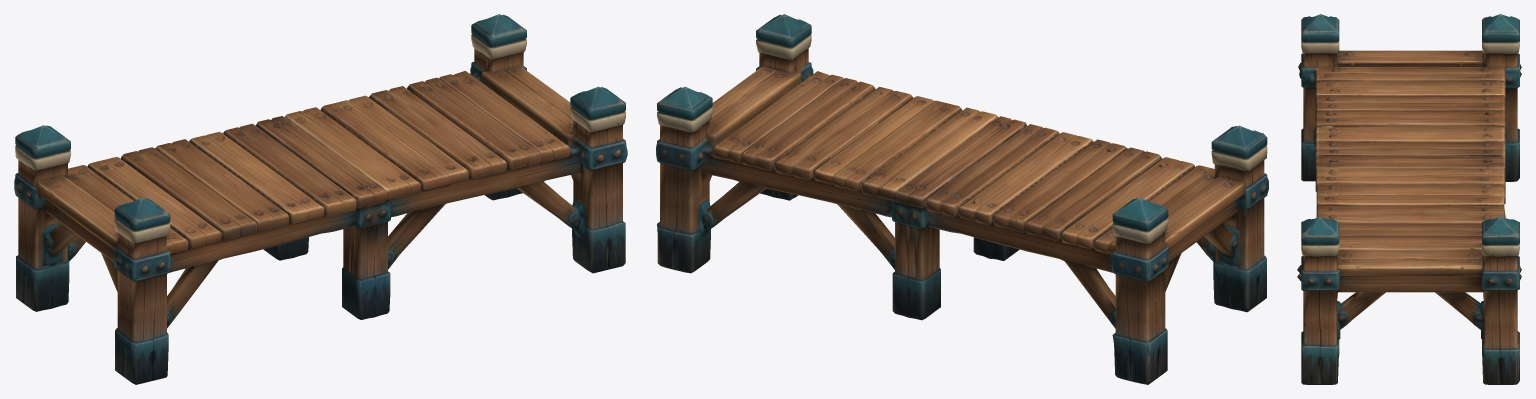
The model's file is pack-traffic-barrier.glb.
3 views of the same model, side by side, from view 1: azimuth 30°, elevation 25°; view 2: azimuth 150°, elevation 25°; view 3: azimuth 270°, elevation 25° (orthographic). The views are drawn at different scales.
Parts seen in each view (by area): view 1: tripo_node_a20ac66c-27cd-4132-b40f-2965e9bfc77f; view 2: tripo_node_a20ac66c-27cd-4132-b40f-2965e9bfc77f; view 3: tripo_node_a20ac66c-27cd-4132-b40f-2965e9bfc77f.
Part boxes in pixels (bbox=[...]): tripo_node_a20ac66c-27cd-4132-b40f-2965e9bfc77f: bbox=[14, 14, 627, 384]; tripo_node_a20ac66c-27cd-4132-b40f-2965e9bfc77f: bbox=[656, 14, 1268, 384]; tripo_node_a20ac66c-27cd-4132-b40f-2965e9bfc77f: bbox=[1297, 14, 1521, 384].
Size of the model in its own units: 0.9772 by 0.3308 by 0.4188.
Materials: 1 (1 with a texture image).
